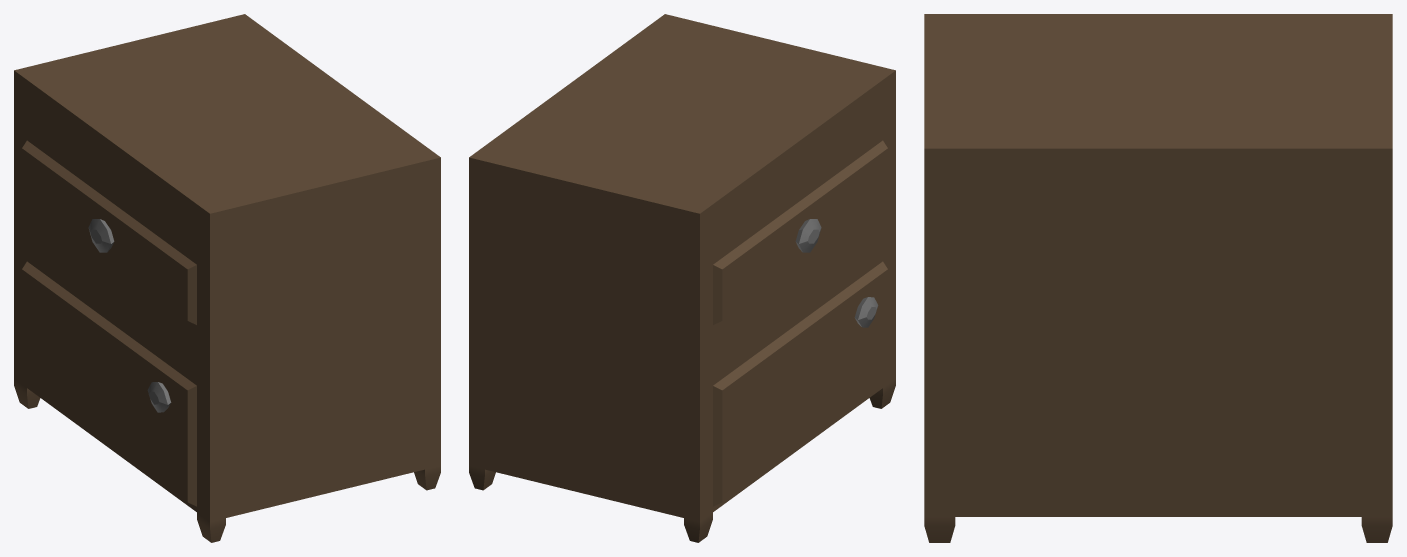
The model's file is SideTable.fbx.
3 views of the same model, side by side, from view 1: azimuth 30°, elevation 25°; view 2: azimuth 150°, elevation 25°; view 3: azimuth 270°, elevation 25° (orthographic). The views are drawn at different scales.
Visible parts, largest first — view 1: pCube40; view 2: pCube40; view 3: pCube40.
Boxes of the visible parts, x1,y1,x2,y2 form: pCube40: (14,14,440,542); pCube40: (469,14,895,542); pCube40: (924,14,1392,542).
Bounding box in the file's own units: 24.18 × 31.05 × 33.27.
